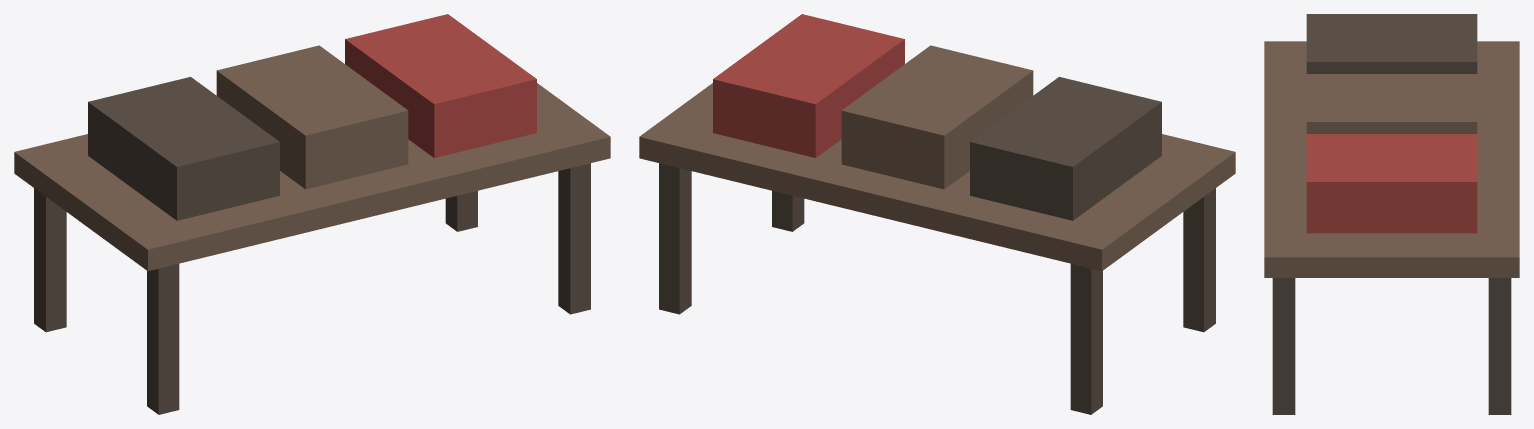
Rendered from prop_hiradai.glb.
3 views of the same model, side by side, from view 1: azimuth 30°, elevation 25°; view 2: azimuth 150°, elevation 25°; view 3: azimuth 270°, elevation 25° (orthographic). The views are drawn at different scales.
Visible parts, largest first — view 1: hiradai; view 2: hiradai; view 3: hiradai.
Boxes of the visible parts, box(x1,y1,x2,y2) form: hiradai: box(14, 14, 610, 414); hiradai: box(639, 14, 1235, 414); hiradai: box(1264, 14, 1519, 414).
Size of the model in its own units: 1.8 by 0.84 by 0.9.
